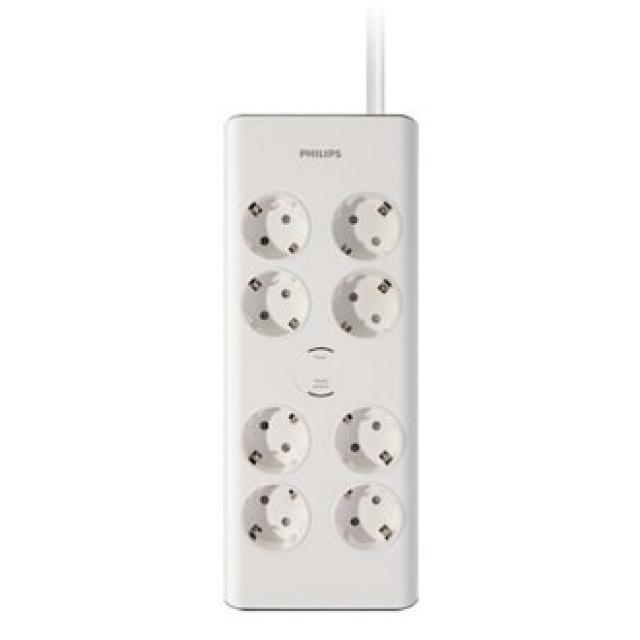typeb: (183, 56, 455, 622)
